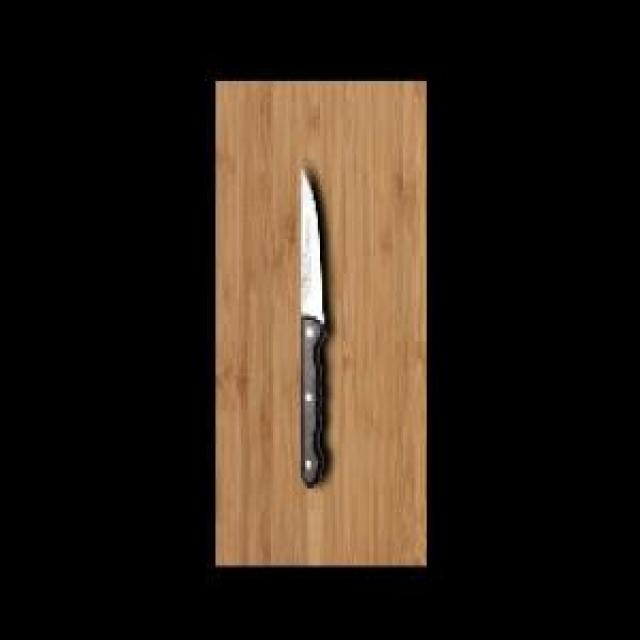knife: (298, 162, 329, 485)
